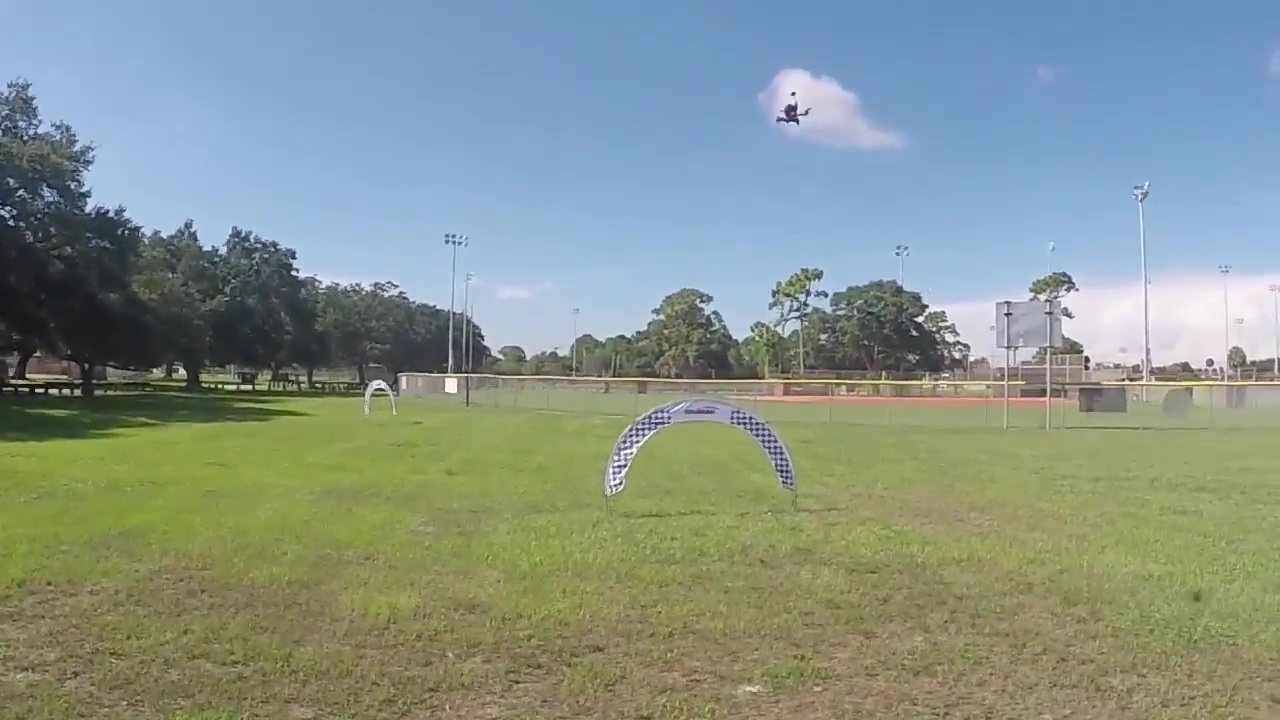gate: (602, 401, 800, 501)
